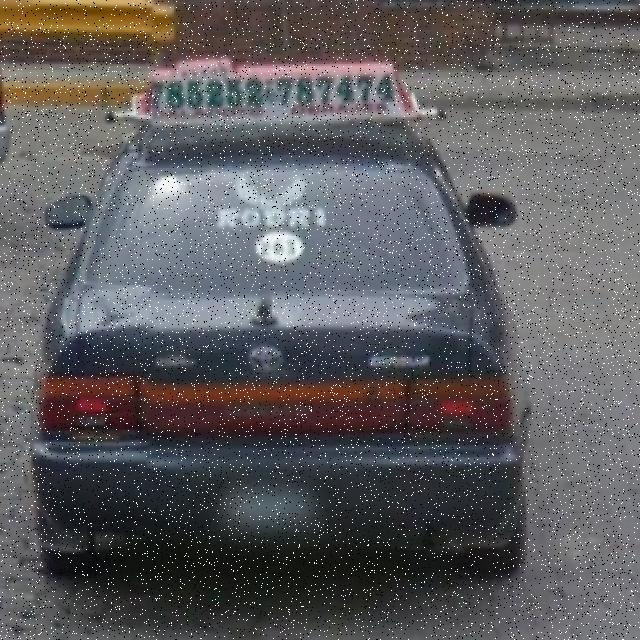cars: (52, 87, 526, 578)
